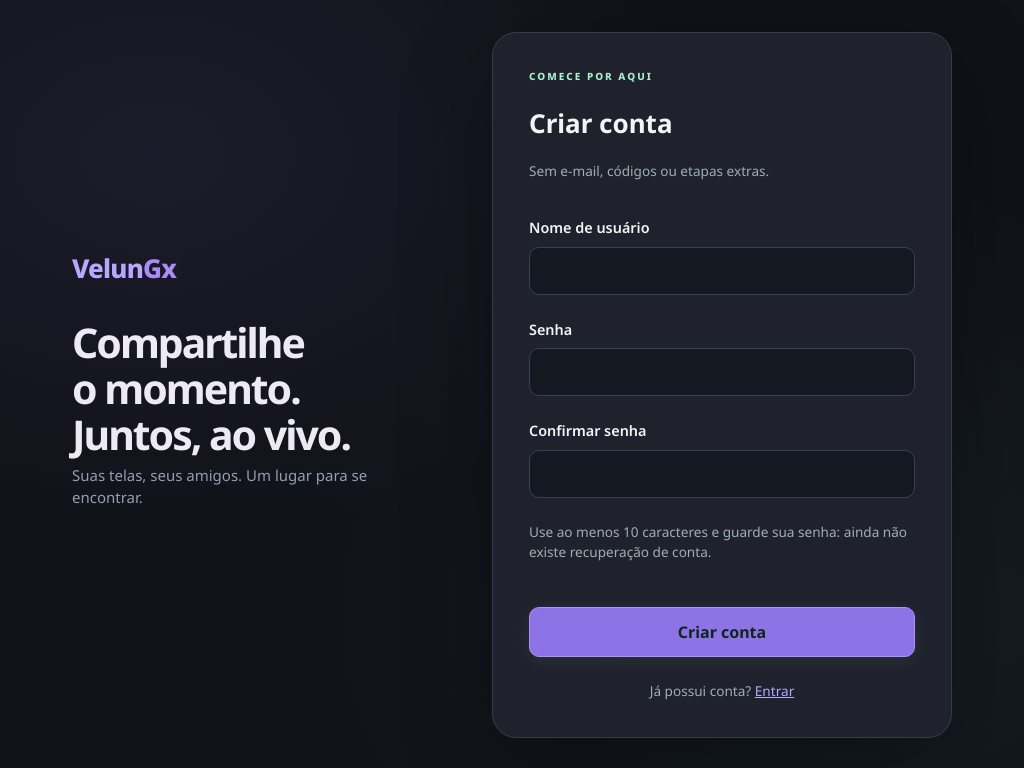
Test case: Conta › não envia cadastro se as senhas não coincidem
In the field labelled "Nome de usuário": (722, 271) [529,247,915,295], type "Davi"
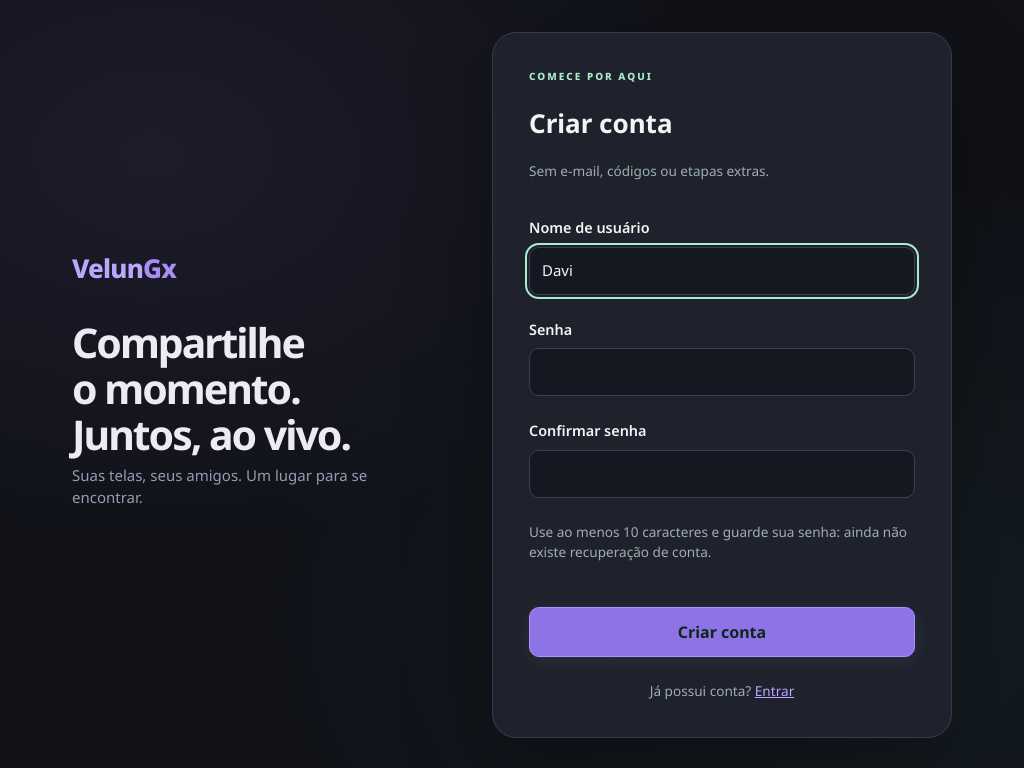
In the password field labelled "Senha": (722, 372) [529,348,915,396], type "senha-muito-segura"
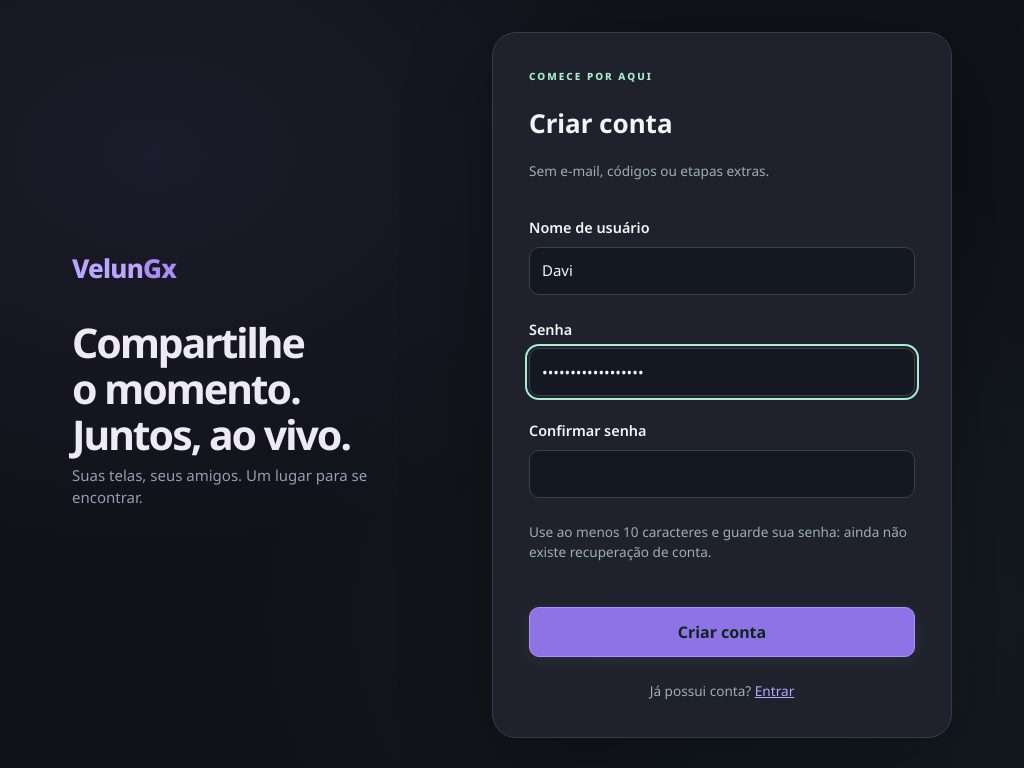
In the password field labelled "Confirmar senha": (722, 474) [529,450,915,498], type "senha-diferente"
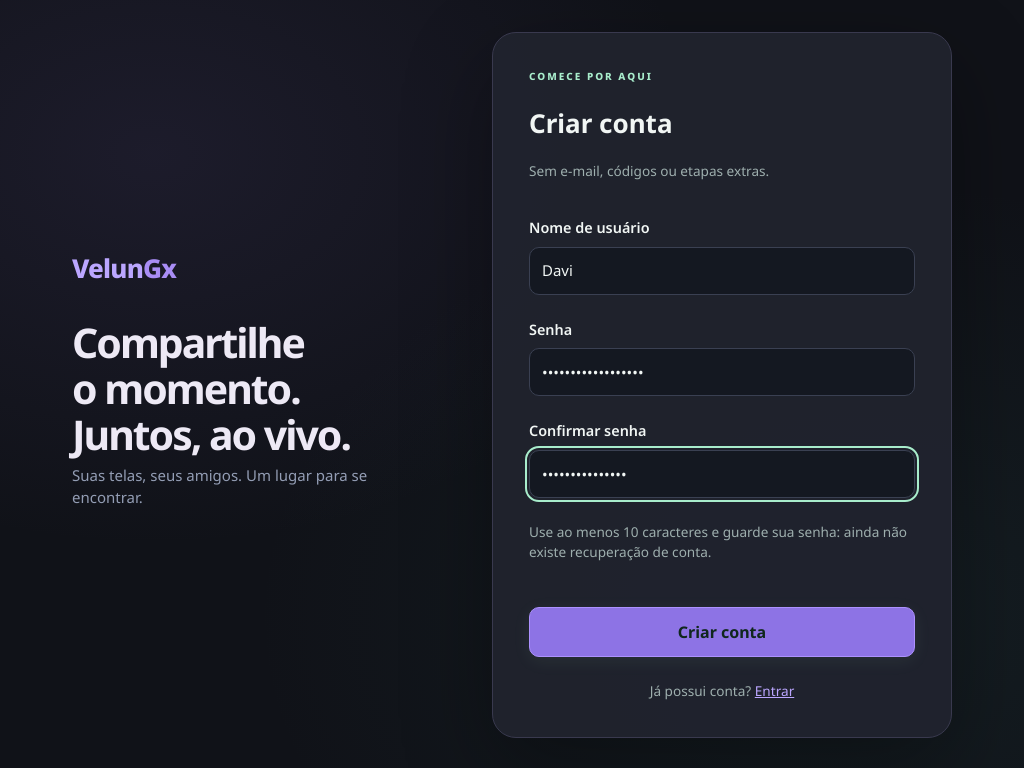
Click the button "Criar conta": (722, 632) [529,607,915,657]
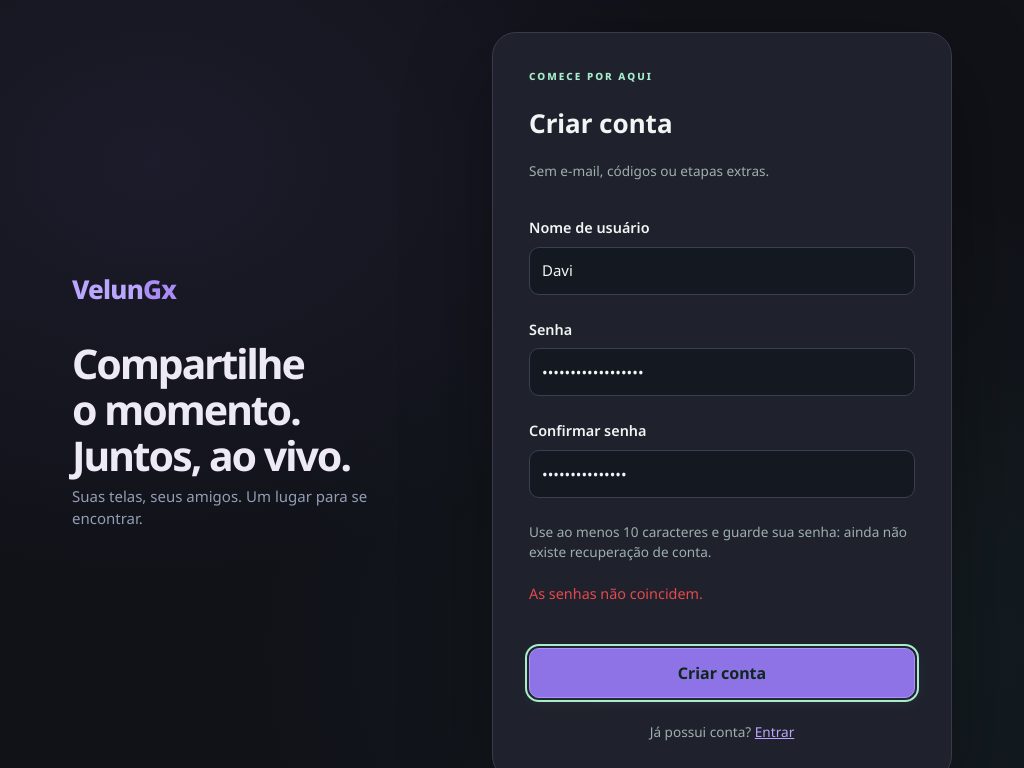
Expected: the message reads "As senhas não coincidem.", [529,584,703,603]
